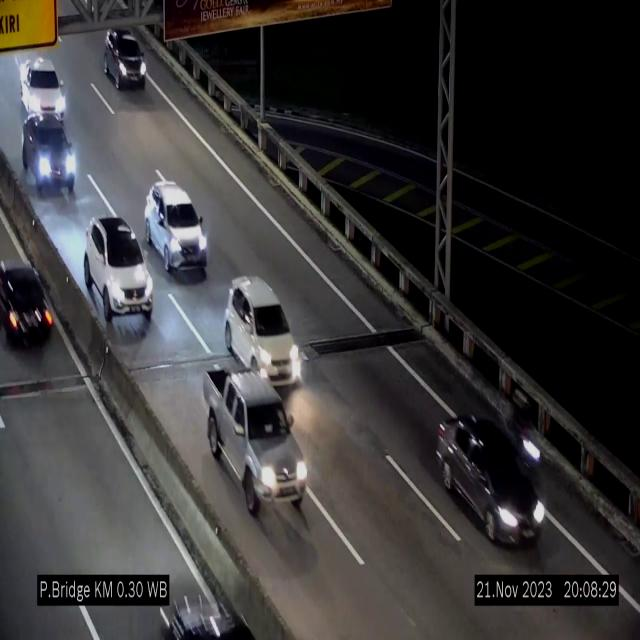Car: (440, 406, 538, 564), (204, 371, 307, 514), (224, 276, 302, 384), (83, 216, 153, 334), (0, 242, 60, 365), (144, 182, 208, 276), (20, 112, 76, 200), (16, 54, 67, 120), (104, 28, 146, 90)
Motorcycle: (508, 384, 541, 472)
